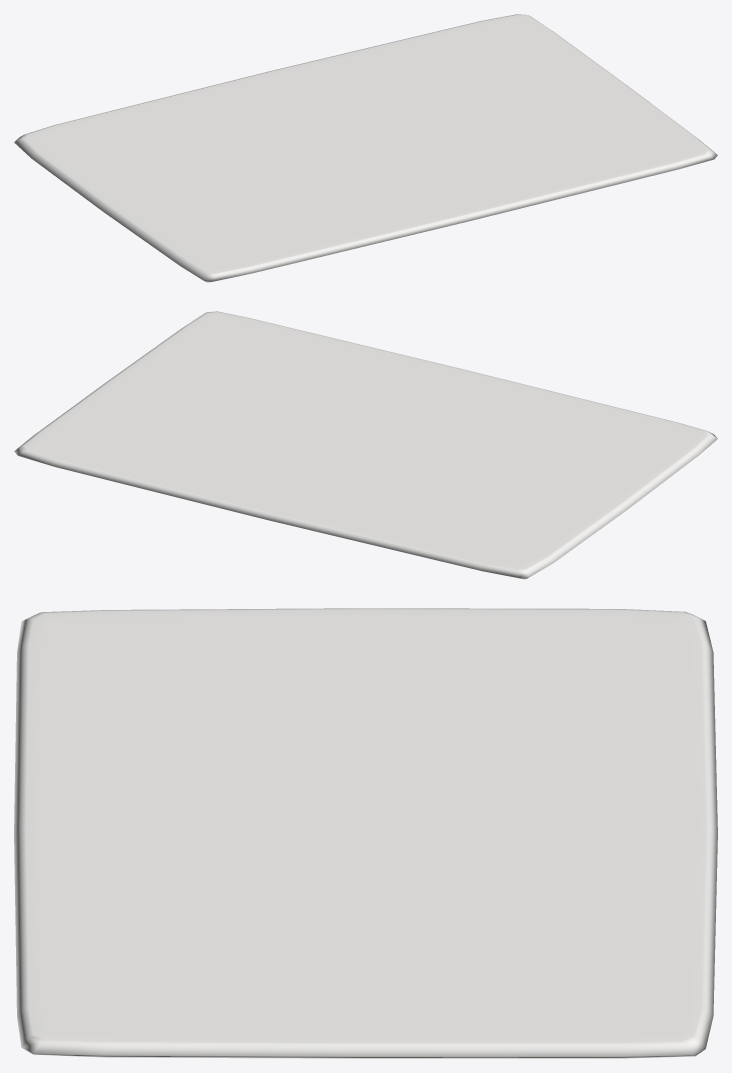
File: P_RugMediumSolid.glb
The picture shows the model from 3 angles, top to bottom: view 1: azimuth 30°, elevation 25°; view 2: azimuth 150°, elevation 25°; view 3: azimuth 270°, elevation 25°; orthographic projection. The views are drawn at different scales.
Parts seen in each view (by area): view 1: P_RugMediumSolid; view 2: P_RugMediumSolid; view 3: P_RugMediumSolid.
Part boxes in pixels (left/top/right/bottom): P_RugMediumSolid: left=14, top=14, right=717, bottom=282; P_RugMediumSolid: left=14, top=311, right=717, bottom=579; P_RugMediumSolid: left=14, top=608, right=717, bottom=1058.
Size of the model in its own units: 2.99 by 0.0405 by 2.
Materials: 1 (1 with a texture image).
